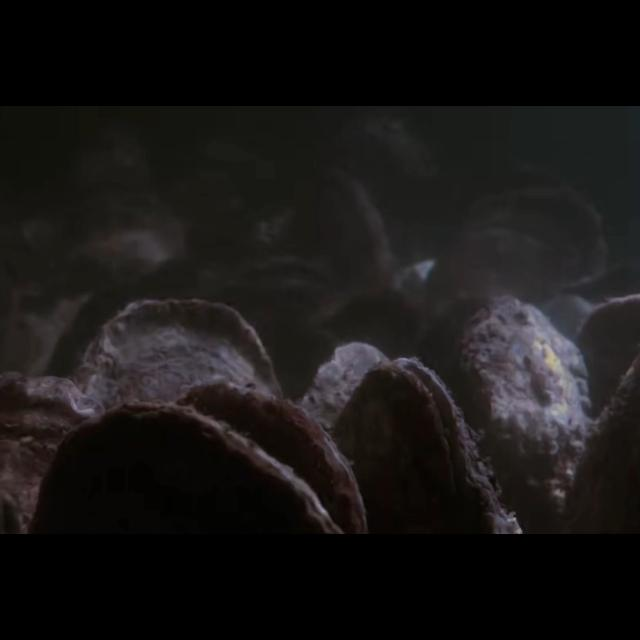Oyster-Closed: (69, 298, 284, 534), (34, 402, 342, 534), (451, 293, 595, 535), (174, 382, 368, 534), (422, 185, 608, 322), (299, 343, 391, 534), (0, 369, 104, 534), (288, 166, 396, 302), (59, 202, 188, 286), (574, 293, 640, 439)
Oyster-Open: (331, 358, 519, 534), (215, 254, 342, 332)
